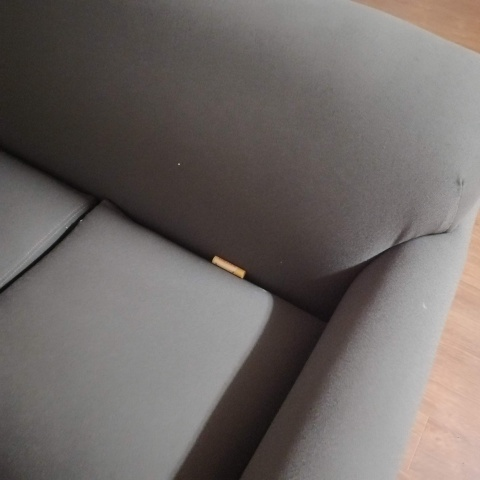chapstick: (210, 255, 247, 280)
